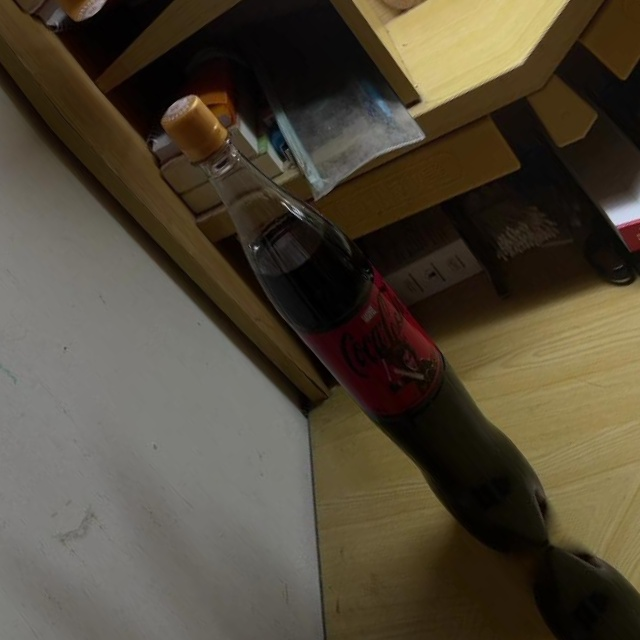Coca-Cola: (129, 73, 578, 581)
